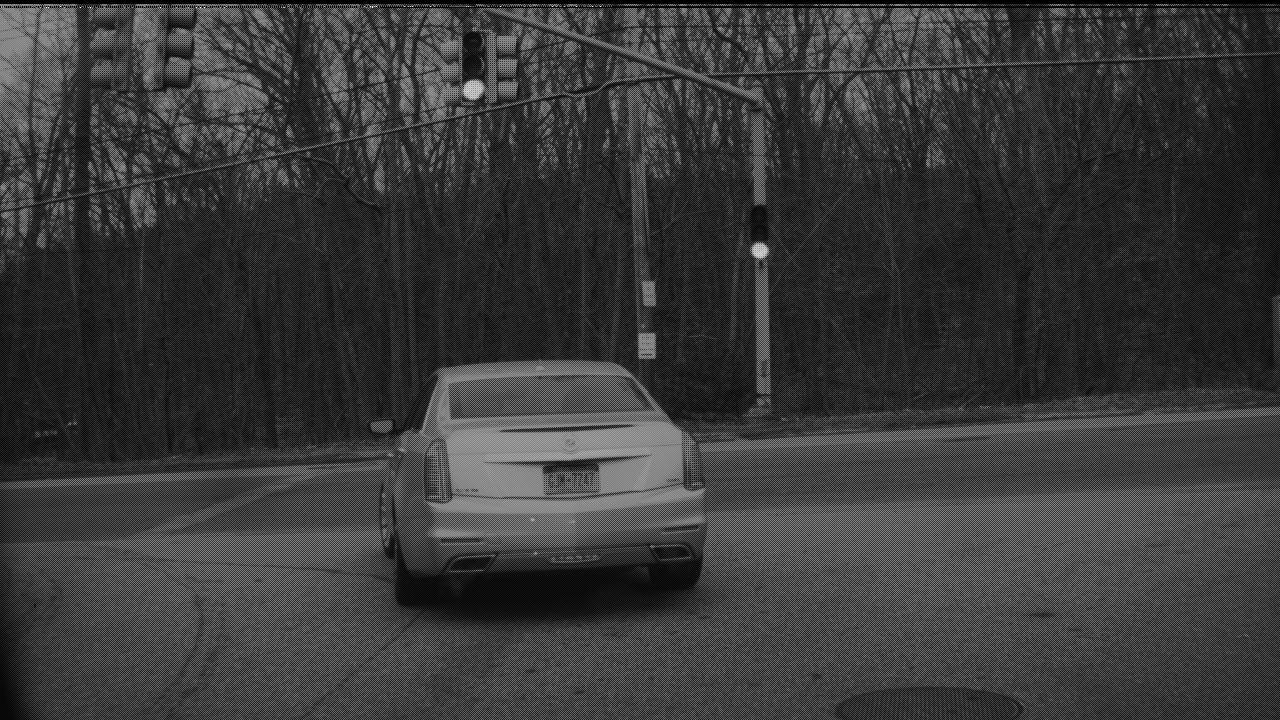pole: (634, 53, 664, 362), (755, 98, 780, 401)
